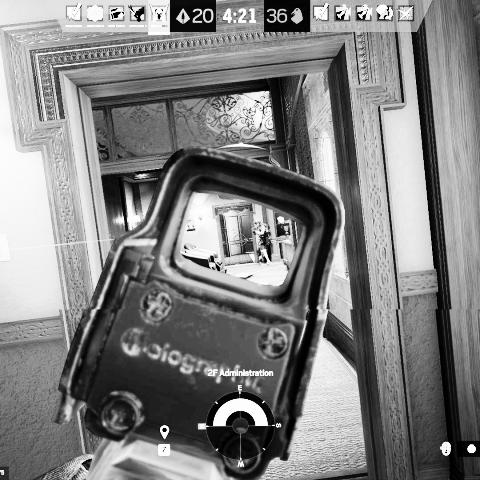Character: (252, 219, 272, 266)
Head: (254, 220, 261, 226)
